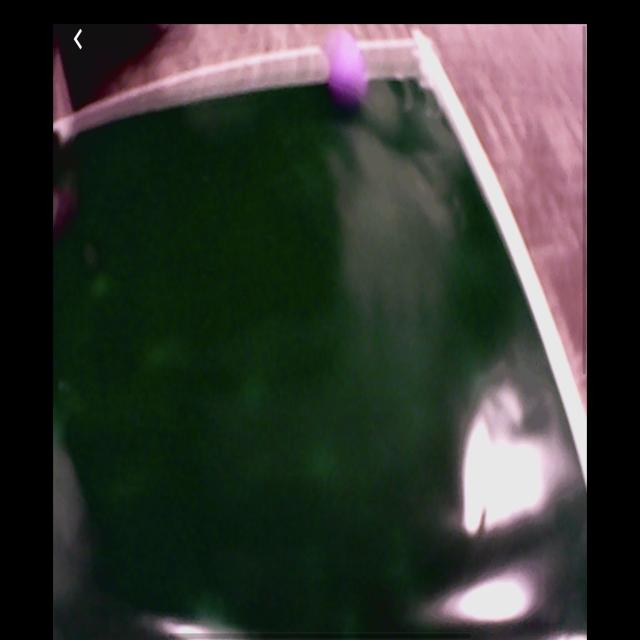ball: (324, 27, 371, 111)
